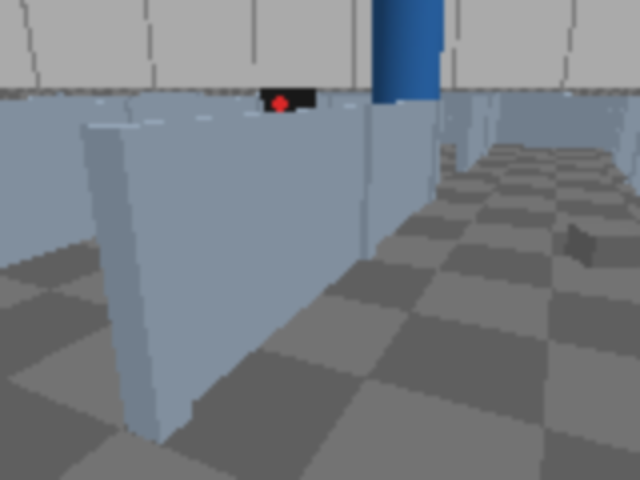obstacle: (565, 223, 638, 270)
